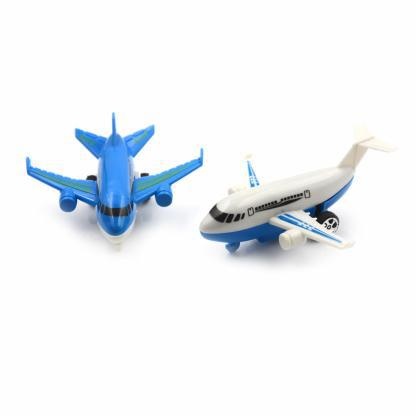CIV_Plane: (198, 132, 401, 274), (16, 104, 202, 242)
